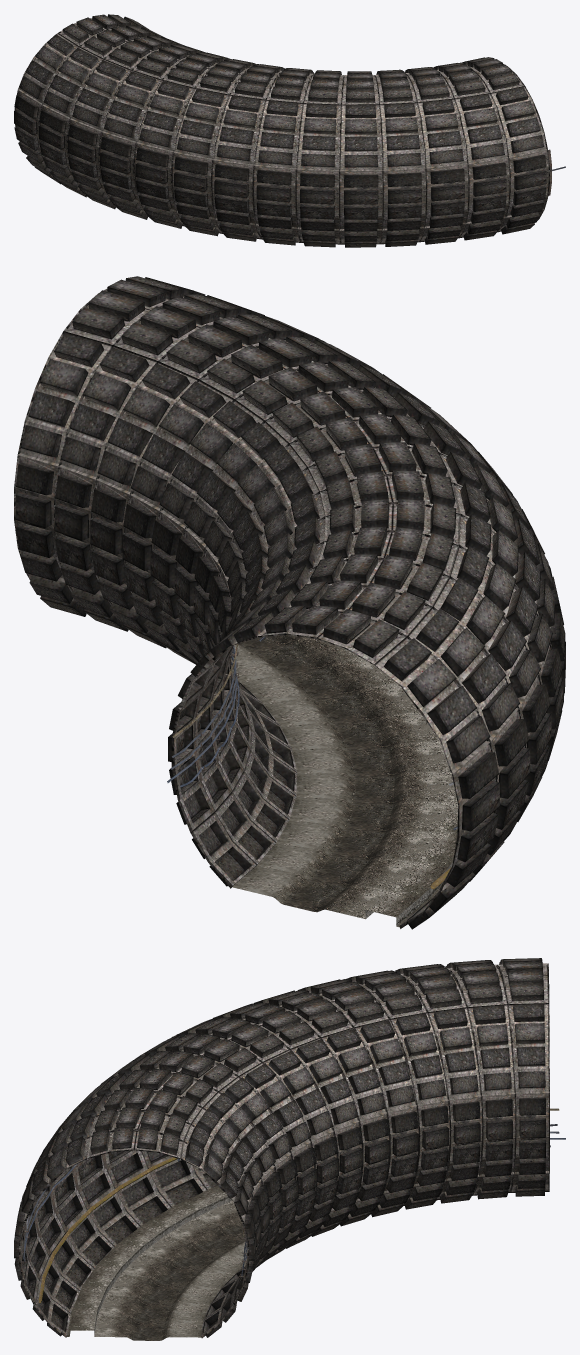
The model's file is tunnel_metal90.obj.
3 renders of one model, top to bottom at view 1: azimuth 30°, elevation 25°; view 2: azimuth 150°, elevation 25°; view 3: azimuth 270°, elevation 25°, orthographic. The views are drawn at different scales.
Visible parts, largest first — view 1: concrete34_opalubka_tunnel_ao; view 2: concrete34_opalubka_tunnel_ao, floor_tunnel_pod013, metal_trub_tonnel013, metal_corr_dsc; view 3: concrete34_opalubka_tunnel_ao, floor_tunnel_pod013, metal_trub_tonnel013, concrete_021, metal_corr_dsc.
Boxes of the visible parts, x1=… form: concrete34_opalubka_tunnel_ao: x1=14, y1=14, x2=549, y2=247; concrete34_opalubka_tunnel_ao: x1=14, y1=276, x2=565, y2=929; floor_tunnel_pod013: x1=230, y1=635, x2=458, y2=927; metal_trub_tonnel013: x1=167, y1=637, x2=457, y2=889; metal_corr_dsc: x1=18, y1=521, x2=241, y2=781; concrete34_opalubka_tunnel_ao: x1=14, y1=958, x2=549, y2=1338; floor_tunnel_pod013: x1=67, y1=1186, x2=247, y2=1340; metal_trub_tonnel013: x1=23, y1=1108, x2=565, y2=1302; concrete_021: x1=94, y1=1196, x2=231, y2=1334; metal_corr_dsc: x1=21, y1=1154, x2=247, y2=1285.
Bounding box in the file's own units: 22.05 × 8.51 × 21.67.
6 materials, 6 textured.
